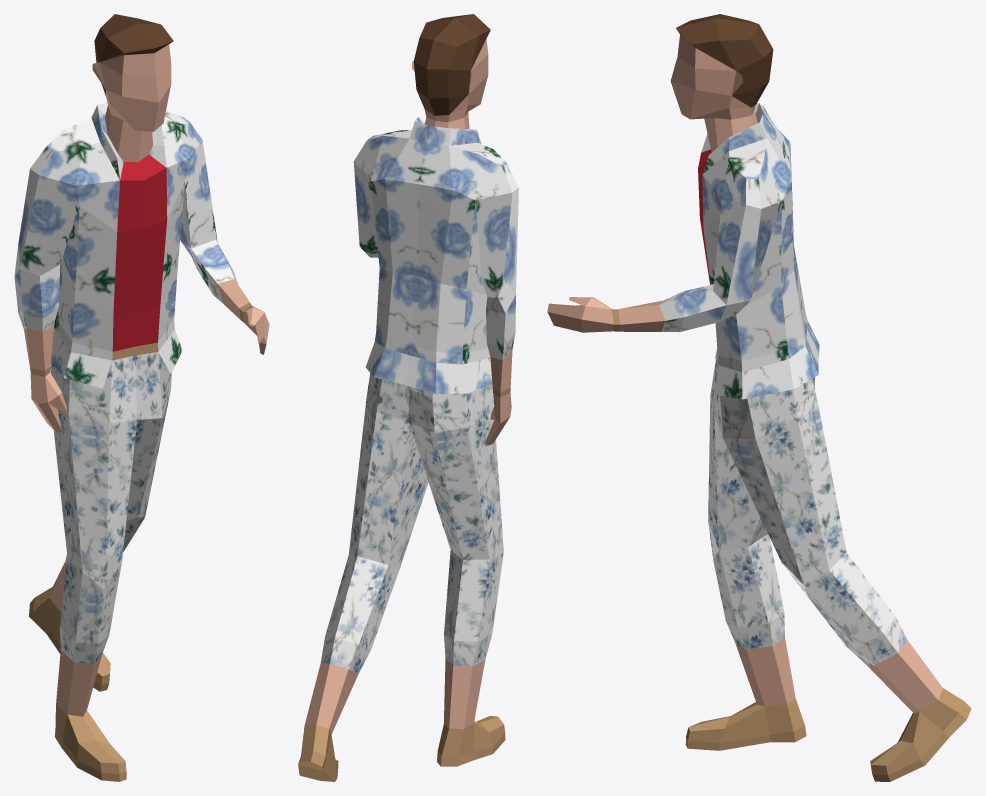
File: SpringManC.007.glb
The picture shows the model from 3 angles, left to right: view 1: azimuth 30°, elevation 25°; view 2: azimuth 150°, elevation 25°; view 3: azimuth 270°, elevation 25°; orthographic projection. The views are drawn at different scales.
Parts seen in each view (by area): view 1: SpringManC.008; view 2: SpringManC.008; view 3: SpringManC.008.
Part boxes in pixels (x1=…): SpringManC.008: x1=14, y1=14, x2=269, y2=781; SpringManC.008: x1=298, y1=14, x2=518, y2=781; SpringManC.008: x1=547, y1=14, x2=971, y2=781.
Size of the model in its own units: 0.4329 by 1.73 by 0.8982.
Materials: 1 (1 with a texture image).
